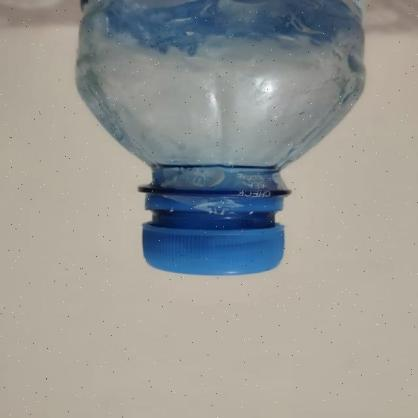bottle: (89, 0, 376, 291)
cap: (132, 175, 307, 284)
